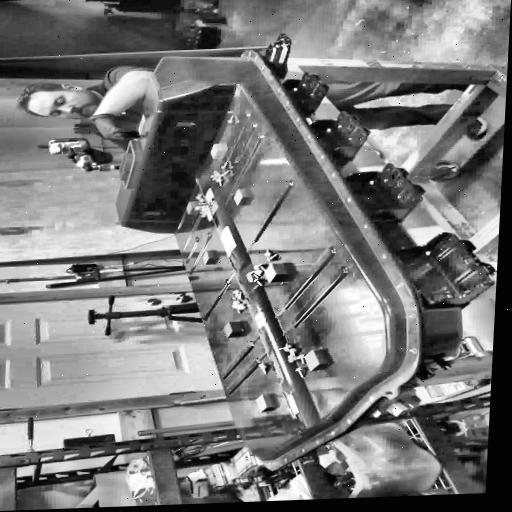b_casing: (114, 48, 422, 472)
